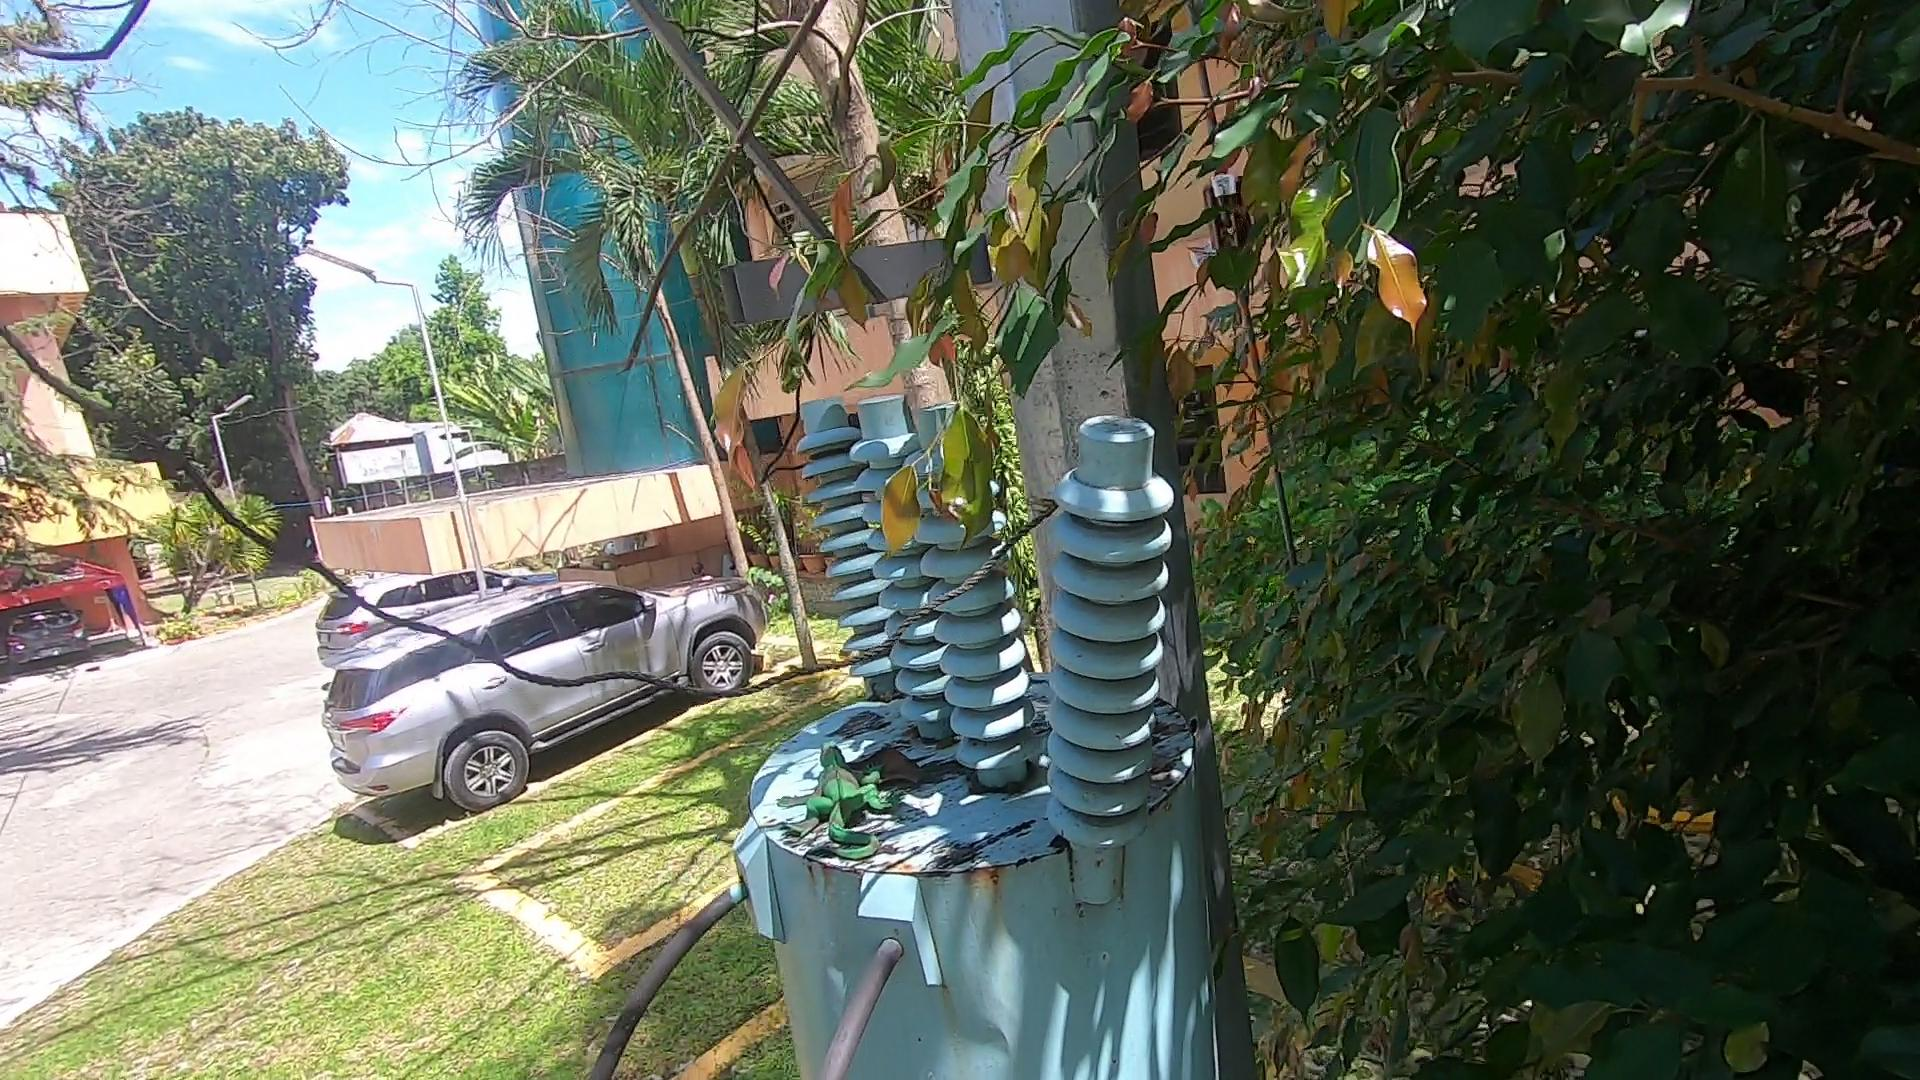leaf: (843, 735, 934, 777)
tree branch: (621, 1, 880, 386)
